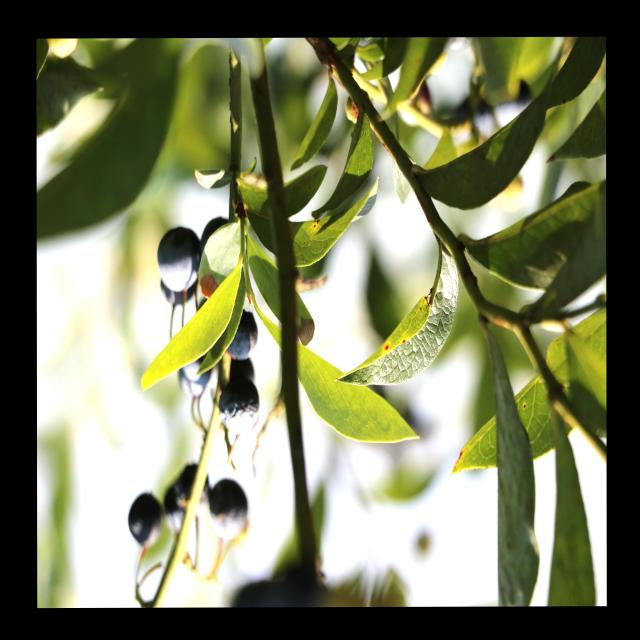blueberry: (158, 224, 200, 292), (210, 483, 248, 538), (129, 488, 163, 548), (221, 384, 258, 434), (225, 311, 259, 358), (182, 338, 215, 381), (165, 486, 193, 533), (180, 469, 208, 513)
